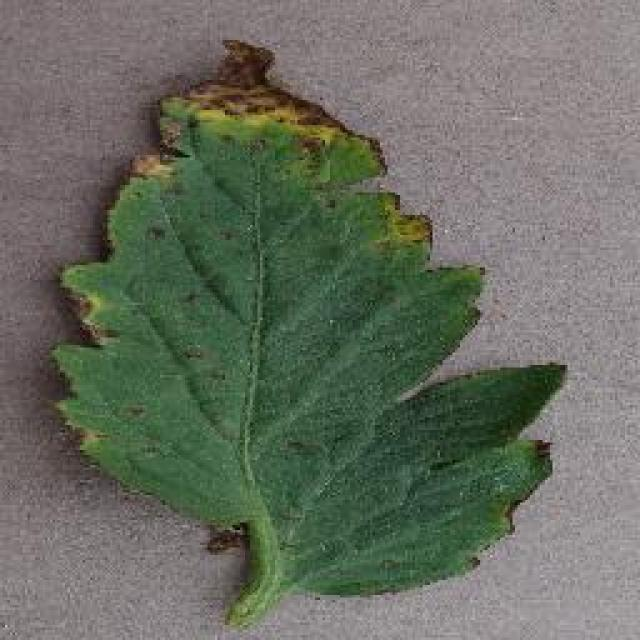Tomato bacterial spot leaf: (51, 30, 582, 605)
